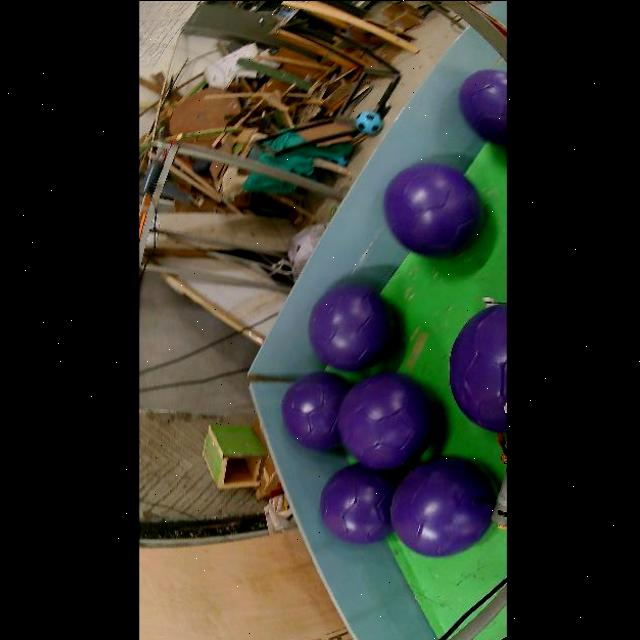P: (391, 456, 497, 557), (339, 371, 437, 468), (385, 162, 484, 258), (308, 283, 396, 370), (450, 302, 507, 433), (321, 463, 399, 544), (282, 371, 350, 449), (459, 68, 507, 145)
